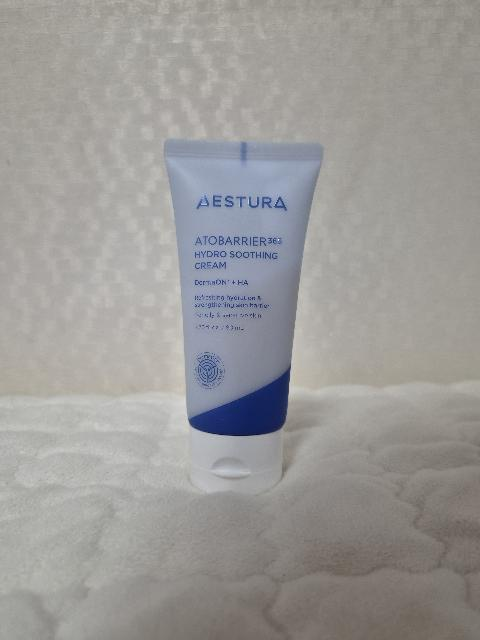handcream: (163, 138, 323, 496)
